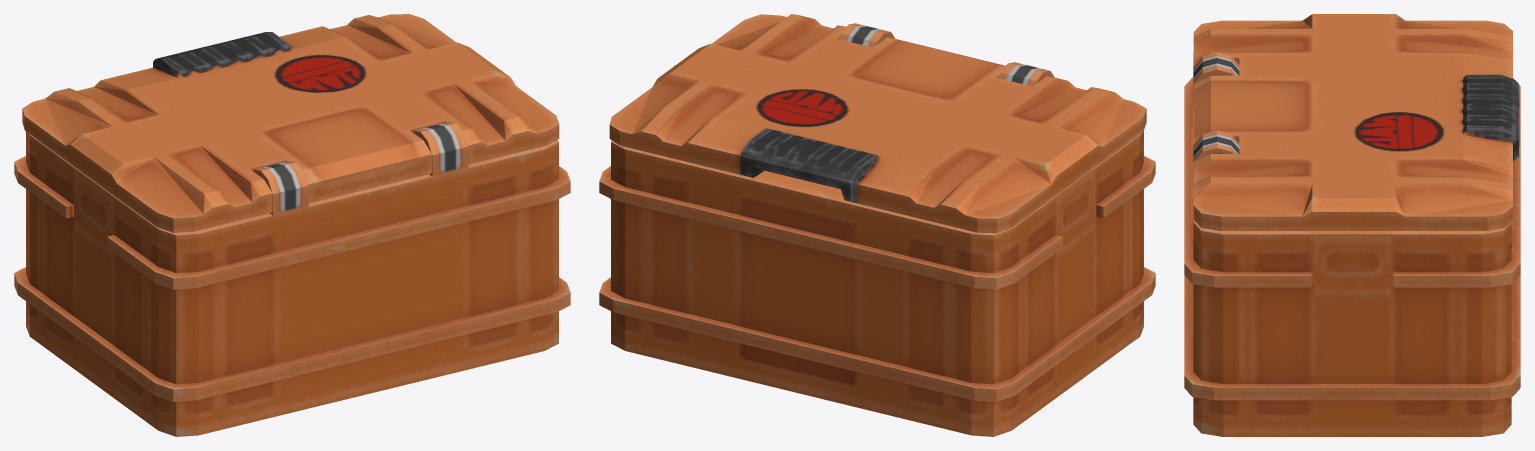
File: P_Toolbox_002_S1_M02.obj
The picture shows the model from 3 angles, left to right: view 1: azimuth 30°, elevation 25°; view 2: azimuth 150°, elevation 25°; view 3: azimuth 270°, elevation 25°; orthographic projection.
Bounding box in the file's own units: 0.9778 × 0.5398 × 0.6875.
Materials: 2 (2 with a texture image).
